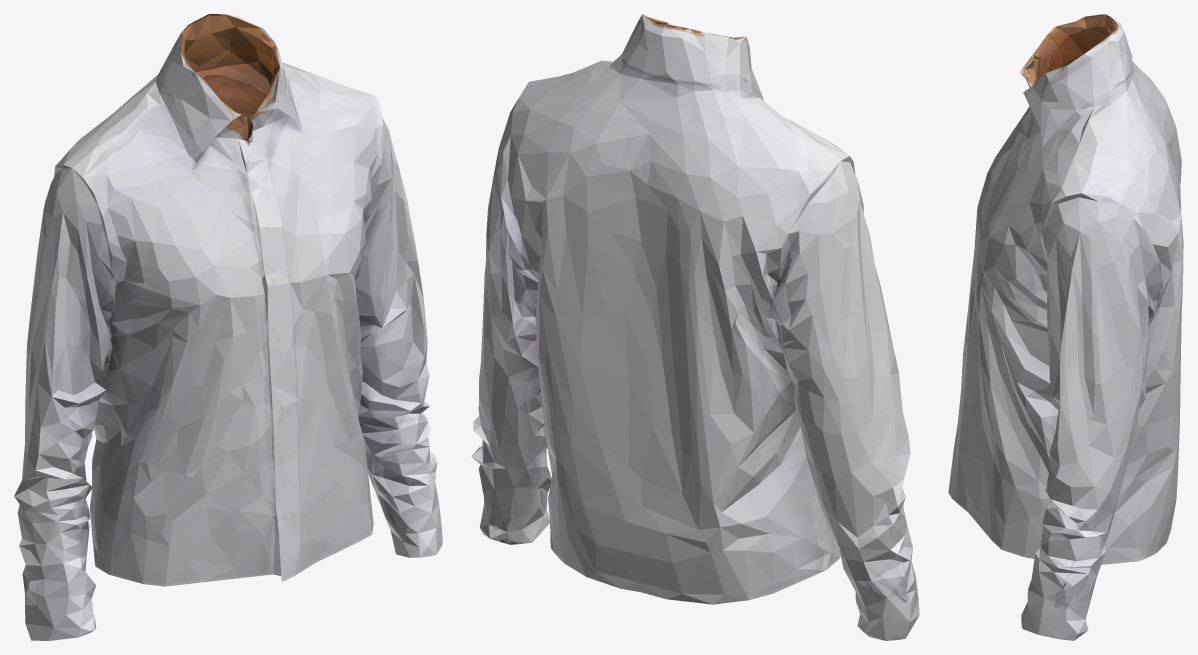
File: dress_shirt_0706153423_texture.fbx
3 renders of one model, left to right at view 1: azimuth 30°, elevation 25°; view 2: azimuth 150°, elevation 25°; view 3: azimuth 270°, elevation 25°, orthographic. The views are drawn at different scales.
Visible parts, largest first — view 1: temp; view 2: temp; view 3: temp.
Boxes of the visible parts, bbox=[...] form: temp: bbox=[14, 14, 442, 640]; temp: bbox=[471, 14, 919, 640]; temp: bbox=[948, 14, 1183, 640].
Bounding box in the file's own units: 154 × 200 × 80.14.
Materials: 1 (1 with a texture image).
